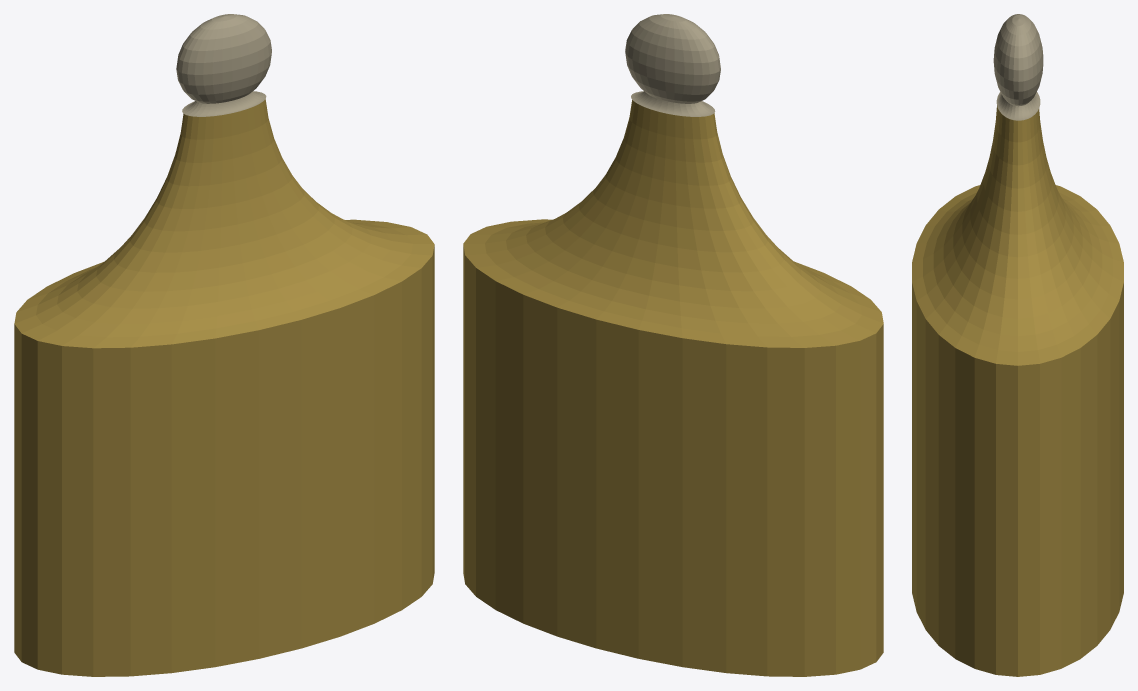
The picture shows the model from 3 angles, left to right: view 1: azimuth 30°, elevation 25°; view 2: azimuth 150°, elevation 25°; view 3: azimuth 270°, elevation 25°; orthographic projection. The views are drawn at different scales.
Visible parts, largest first — view 1: mesh1_mesh1-geometry, mesh3_mesh3-geometry; view 2: mesh1_mesh1-geometry, mesh3_mesh3-geometry; view 3: mesh1_mesh1-geometry, mesh3_mesh3-geometry.
Part boxes in pixels (left/top/right/bottom): mesh1_mesh1-geometry: left=14, top=99, right=434, bottom=676; mesh3_mesh3-geometry: left=176, top=14, right=271, bottom=116; mesh1_mesh1-geometry: left=463, top=100, right=883, bottom=676; mesh3_mesh3-geometry: left=625, top=14, right=720, bottom=116; mesh1_mesh1-geometry: left=912, top=105, right=1123, bottom=676; mesh3_mesh3-geometry: left=993, top=14, right=1043, bottom=120.
Size of the model in its own units: 0.559 by 0.7849 by 0.2672.
